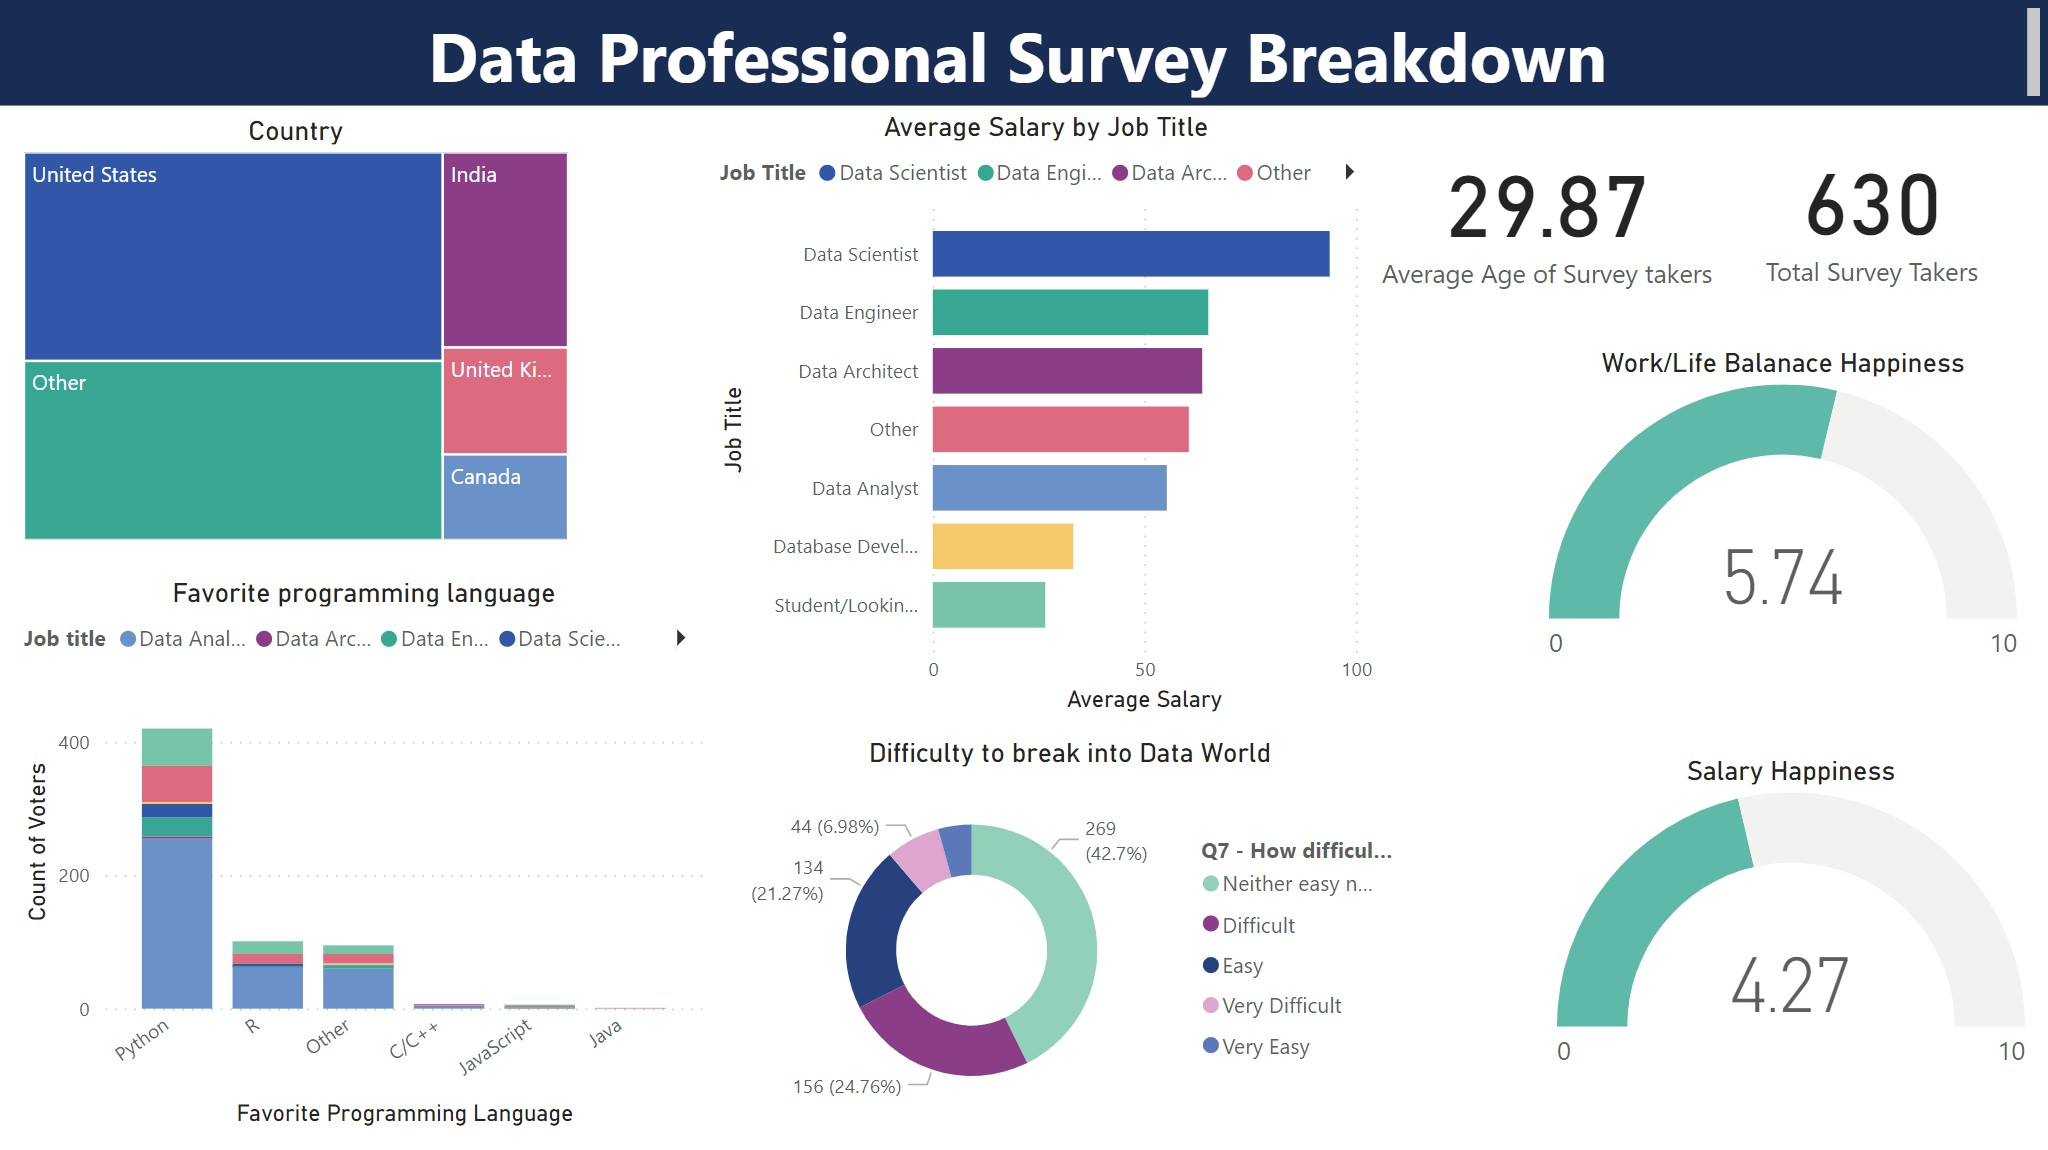

Layout of this report page (visuals, bound fields, positions):
{"tool":"powerbi","page":{"name":"Page 1","canvas":[1280,720],"ordinal":0},"visuals":[{"type":"textbox","box":[0,0,1280,66.2],"z":0},{"type":"card","fields":{"Values":["Count(Data Professional Survey.Unique ID)"]},"box":[1060,71.2,220,120],"z":1000},{"type":"card","fields":{"Values":["Avg(Data Professional Survey.Q10 - Current Age)"]},"box":[855,73.8,223.8,117.5],"z":2000},{"type":"barChart","title":"Average Salary by Job Title ","fields":{"Category":["Data Professional Survey.Q1 - Which Title Best Fits your Current Role?.1"],"Y":["Avg(Data Professional Survey.Average Salary)"],"Series":["Data Professional Survey.Q1 - Which Title Best Fits your Current Role?.1"]},"box":[445,68.8,417.5,381.2],"z":3000},{"type":"columnChart","title":"Favorite programming language","fields":{"Category":["Data Professional Survey.Q5 - Favorite Programming Language.1"],"Y":["CountNonNull(Data Professional Survey.Unique ID)"],"Series":["Data Professional Survey.Q1 - Which Title Best Fits your Current Role?.1"]},"box":[10,360,435,348.8],"z":4000},{"type":"gauge","title":"Work/Life Balanace Happiness","fields":{"Y":["Avg(Data Professional Survey.Q6 - How Happy are you in your Current Position with the following? (Work/Life Balance))"],"MinValue":["Min(Data Professional Survey.Q6 - How Happy are you in your Current Position with the following? (Work/Life Balance))"],"MaxValue":["Max(Data Professional Survey.Q6 - How Happy are you in your Current Position with the following? (Work/Life Balance))1"]},"box":[957.5,216.2,313.8,206.2],"z":5000},{"type":"gauge","title":"Salary Happiness","fields":{"Y":["Avg(Data Professional Survey.Q6 - How Happy are you in your Current Position with the following? (Salary))"],"MinValue":["Min(Data Professional Survey.Q6 - How Happy are you in your Current Position with the following? (Salary))"],"MaxValue":["Max(Data Professional Survey.Q6 - How Happy are you in your Current Position with the following? (Salary))"]},"box":[967.5,471.2,303.8,206.2],"z":6000},{"type":"donutChart","title":"Difficulty to break into Data World","fields":{"Category":["Data Professional Survey.Q7 - How difficult was it for you to break into Data?"],"Y":["CountNonNull(Data Professional Survey.Q7 - How difficult was it for you to break into Data?)"]},"box":[458.8,460,420,248.8],"z":7000},{"type":"treemap","title":"Country","fields":{"Group":["Data Professional Survey.Q11 - Which Country do you live in?.1"],"Values":["CountNonNull(Data Professional Survey.Q11 - Which Country do you live in?.1)"]},"box":[10,71.2,350,271.2],"z":8000}]}

Visuals, with their boxes in screenshot pixels (x1, y1, x2, y2), scaled from the page's 1280x720 canvas onto the 2048x1150 screenshot:
textbox: 0,0,2047,106
card - Count(Data Professional Survey.Unique ID): 1696,114,2047,305
card - Avg(Data Professional Survey.Q10 - Current Age): 1368,118,1726,306
"Average Salary by Job Title " barChart: 712,110,1380,719
"Favorite programming language" columnChart: 16,575,712,1132
"Work/Life Balanace Happiness" gauge: 1532,345,2034,675
"Salary Happiness" gauge: 1548,753,2034,1082
"Difficulty to break into Data World" donutChart: 734,735,1406,1132
"Country" treemap: 16,114,576,547
